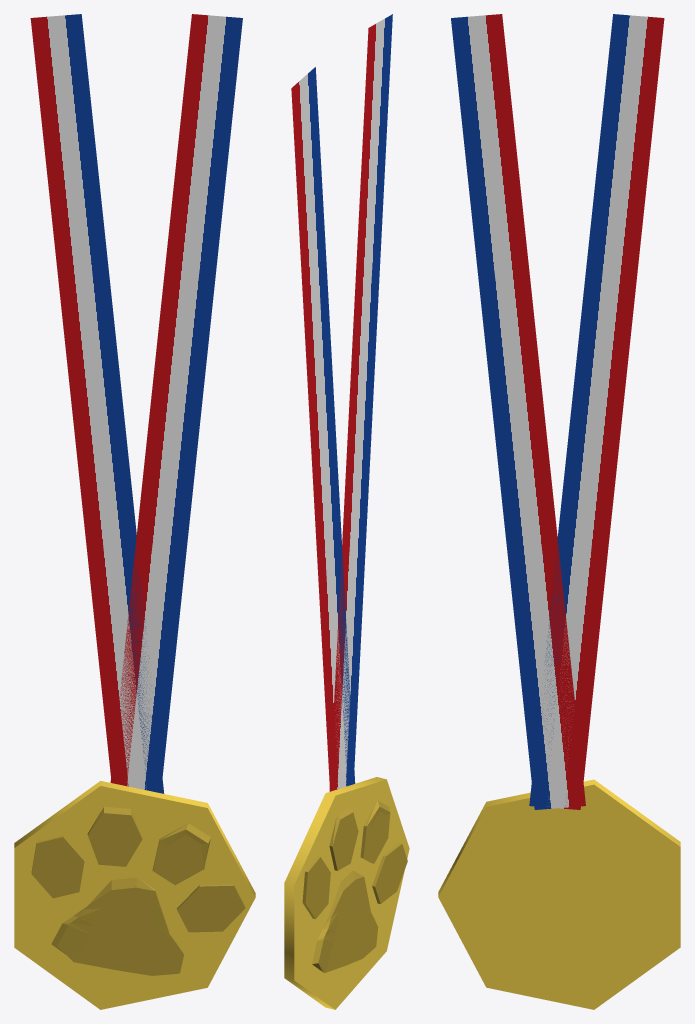
Rendered from medalGold.FBX.
3 views of the same model, side by side, from view 1: azimuth 90°, elevation 25°; view 2: azimuth 150°, elevation 25°; view 3: azimuth 270°, elevation 25° (orthographic). The views are drawn at different scales.
Visible parts, largest first — view 1: Box236; view 2: Box236; view 3: Box236.
Part boxes in pixels (left/top/right/bottom): Box236: left=14, top=14, right=255, bottom=1009; Box236: left=284, top=14, right=409, bottom=1009; Box236: left=438, top=14, right=680, bottom=1009.
Size of the model in its own units: 0.5628 by 35.33 by 7.79.
